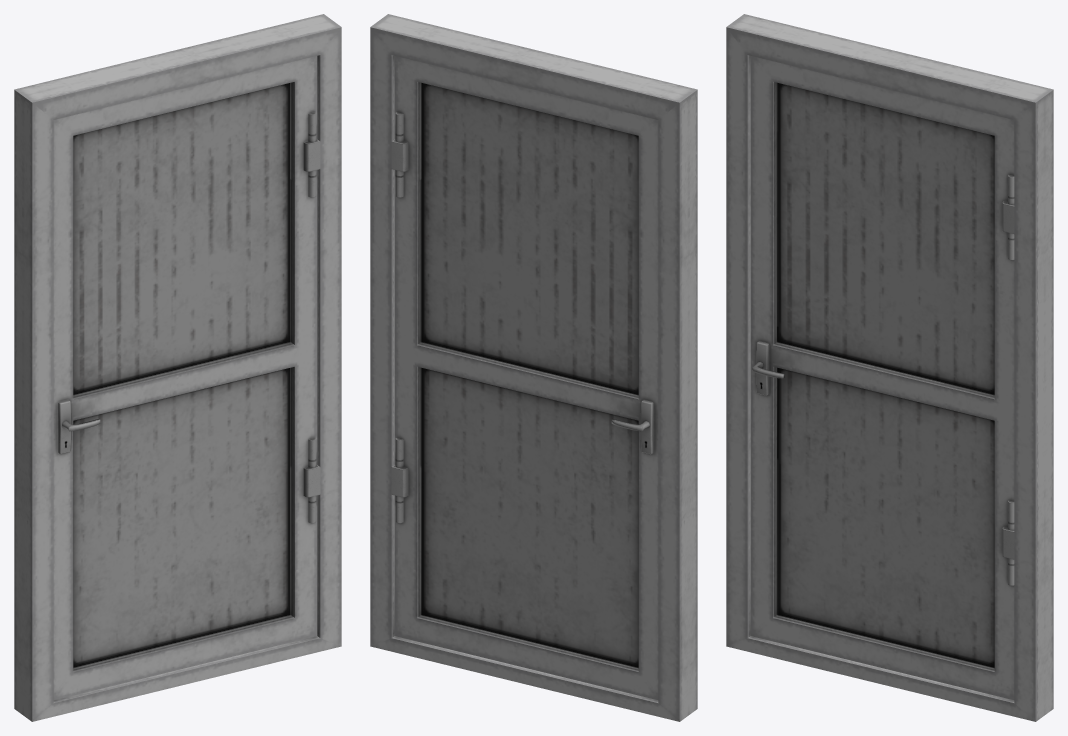
File: Warehouse Office Door 2 A.fbx
3 views of the same model, side by side, from view 1: azimuth 30°, elevation 25°; view 2: azimuth 150°, elevation 25°; view 3: azimuth 330°, elevation 25° (orthographic).
Visible parts, largest first — view 1: WH_Office_Door_2_A_Base, WH_Office_Door_2_A_Door_Frame; view 2: WH_Office_Door_2_A_Base, WH_Office_Door_2_A_Door_Frame; view 3: WH_Office_Door_2_A_Base, WH_Office_Door_2_A_Door_Frame.
Boxes of the visible parts, x1=… form: WH_Office_Door_2_A_Base: x1=53, y1=56, x2=320, y2=699; WH_Office_Door_2_A_Door_Frame: x1=14, y1=14, x2=341, y2=721; WH_Office_Door_2_A_Base: x1=391, y1=56, x2=658, y2=699; WH_Office_Door_2_A_Door_Frame: x1=370, y1=14, x2=697, y2=721; WH_Office_Door_2_A_Base: x1=750, y1=56, x2=1014, y2=699; WH_Office_Door_2_A_Door_Frame: x1=726, y1=14, x2=1053, y2=721.
Size of the model in its own units: 115 by 220 by 20.02.
